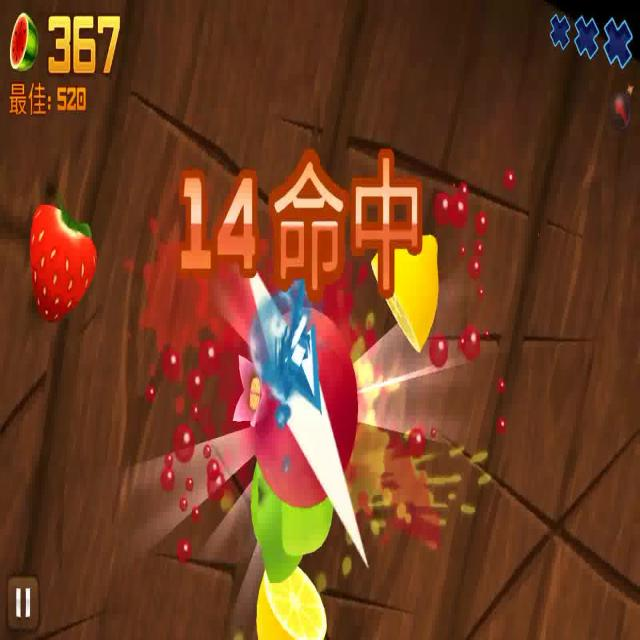fruit: (245, 305, 359, 507), (246, 464, 340, 570), (28, 200, 96, 325), (369, 233, 439, 352), (254, 561, 326, 640)
